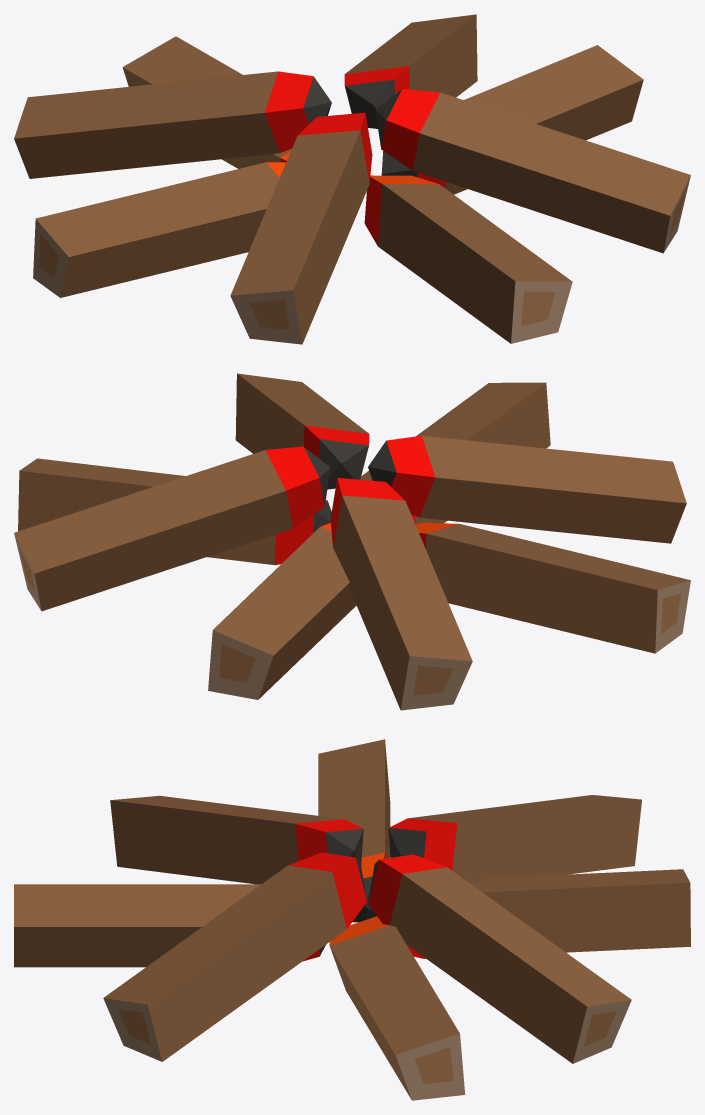
Rendered from TB_D_Prop_CampFire_A.FBX.
The picture shows the model from 3 angles, top to bottom: view 1: azimuth 30°, elevation 25°; view 2: azimuth 150°, elevation 25°; view 3: azimuth 270°, elevation 25°; orthographic projection.
Parts seen in each view (by area): view 1: TB_D_Prop_CampFire_A; view 2: TB_D_Prop_CampFire_A; view 3: TB_D_Prop_CampFire_A.
Part boxes in pixels (left/top/right/bottom): TB_D_Prop_CampFire_A: left=14, top=14, right=690, bottom=344; TB_D_Prop_CampFire_A: left=14, top=373, right=690, bottom=710; TB_D_Prop_CampFire_A: left=14, top=739, right=690, bottom=1100.
Bounding box in the file's own units: 1.31 × 0.2363 × 1.24.
